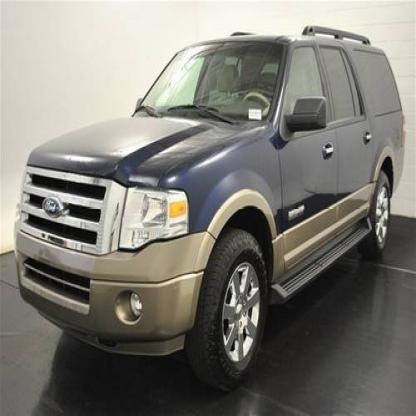Vehicle: (17, 24, 409, 396)
